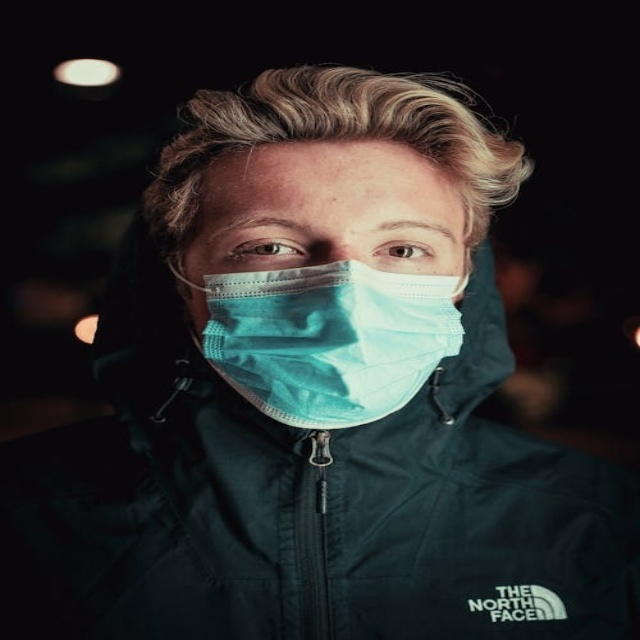Mascara: (193, 253, 473, 428)
Sin_gafas: (205, 207, 458, 274)
